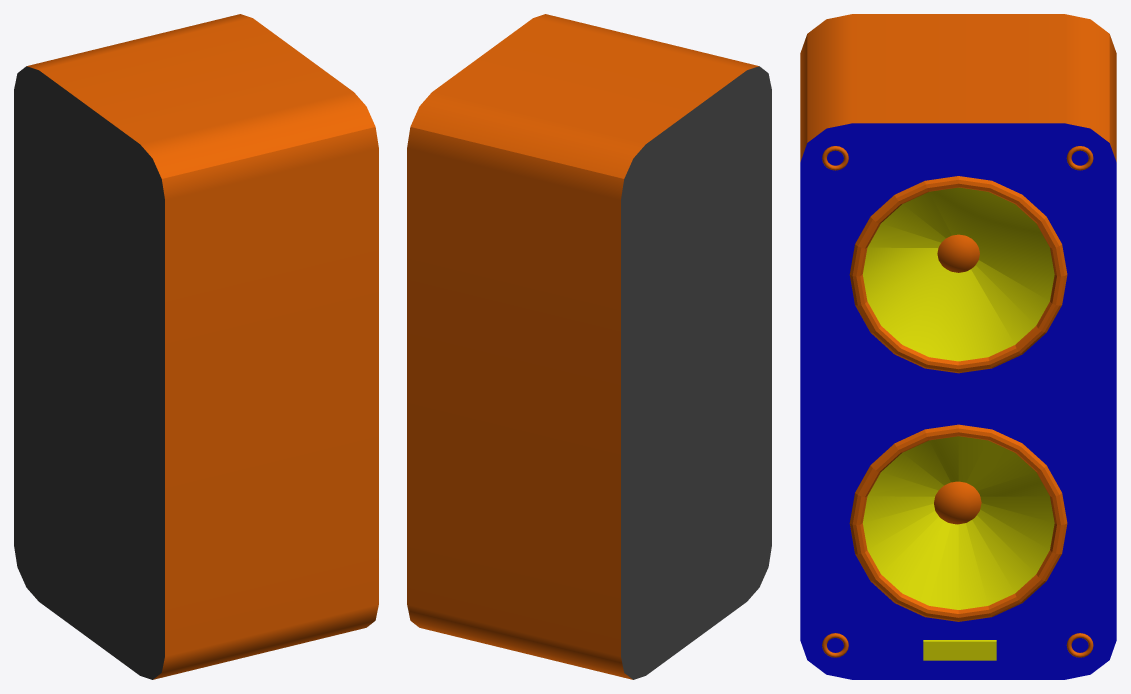
Rendered from speakar.fbx.
3 views of the same model, side by side, from view 1: azimuth 30°, elevation 25°; view 2: azimuth 150°, elevation 25°; view 3: azimuth 270°, elevation 25° (orthographic). The views are drawn at different scales.
Visible parts, largest first — view 1: speakar; view 2: speakar; view 3: speakar.
Part boxes in pixels (x1,y1,x2,y2): speakar: (14, 14, 378, 679); speakar: (407, 14, 771, 679); speakar: (800, 14, 1116, 679).
Size of the model in its own units: 5.35 by 12.52 by 6.45.
